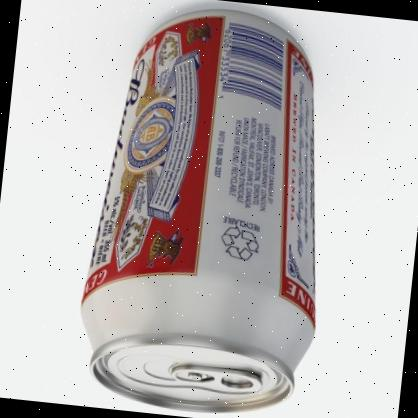can: (84, 0, 349, 418)
